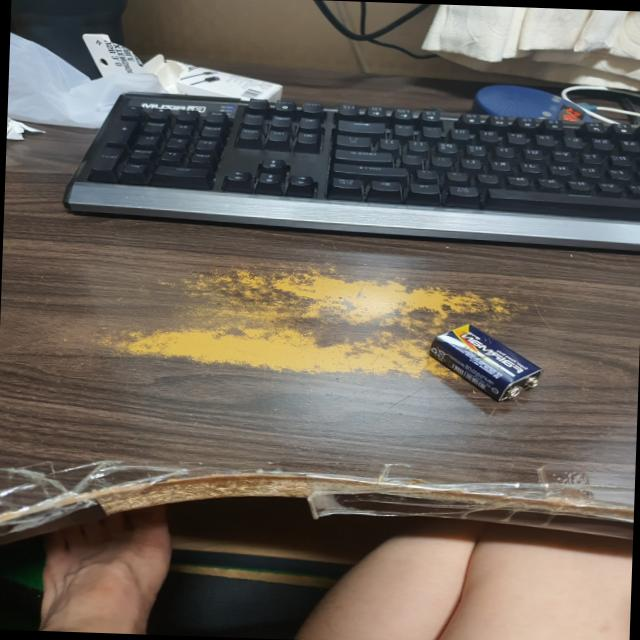battery-etc-etc: (424, 322, 549, 408)
